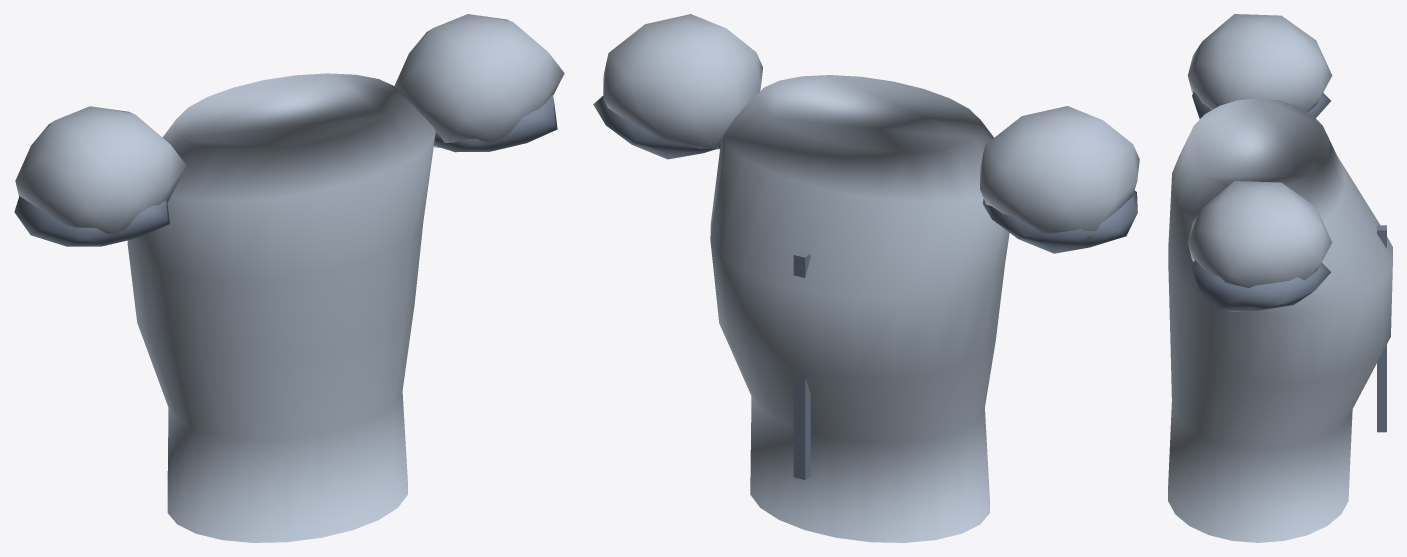
Rendered from anime_armor.glb.
3 renders of one model, left to right at view 1: azimuth 30°, elevation 25°; view 2: azimuth 150°, elevation 25°; view 3: azimuth 270°, elevation 25°, orthographic. The views are drawn at different scales.
Visible parts, largest first — view 1: plate, pauldron, pauldron.001, rim, rim.001; view 2: plate, pauldron.001, pauldron, rim, ridge, rim.001; view 3: plate, pauldron.001, pauldron, rim.001, ridge, rim.
Boxes of the visible parts, x1=… form: plate: x1=127, y1=73, x2=435, y2=542; pauldron: x1=15, y1=106, x2=186, y2=234; pauldron.001: x1=394, y1=14, x2=564, y2=147; rim: x1=14, y1=196, x2=169, y2=246; rim.001: x1=434, y1=95, x2=557, y2=152; plate: x1=710, y1=75, x2=1009, y2=542; pauldron.001: x1=603, y1=14, x2=762, y2=149; pauldron: x1=980, y1=106, x2=1139, y2=239; rim: x1=982, y1=190, x2=1137, y2=253; ridge: x1=793, y1=251, x2=810, y2=479; rim.001: x1=593, y1=96, x2=720, y2=159; plate: x1=1168, y1=98, x2=1392, y2=542; pauldron.001: x1=1187, y1=181, x2=1332, y2=287; pauldron: x1=1187, y1=14, x2=1332, y2=111; rim.001: x1=1192, y1=260, x2=1330, y2=311; ridge: x1=1377, y1=225, x2=1386, y2=432; rim: x1=1192, y1=92, x2=1330, y2=118.
Bounding box in the file's own units: 0.5422 × 0.4201 × 0.2219.
